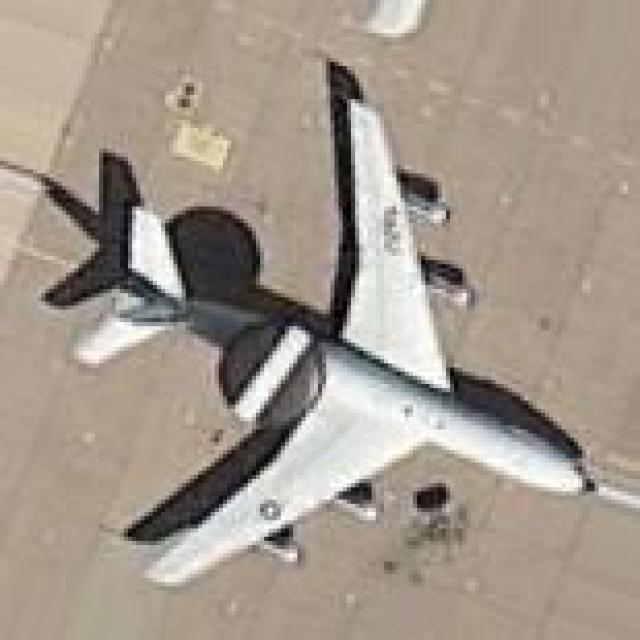E-3_TopDown: (33, 61, 600, 593)
